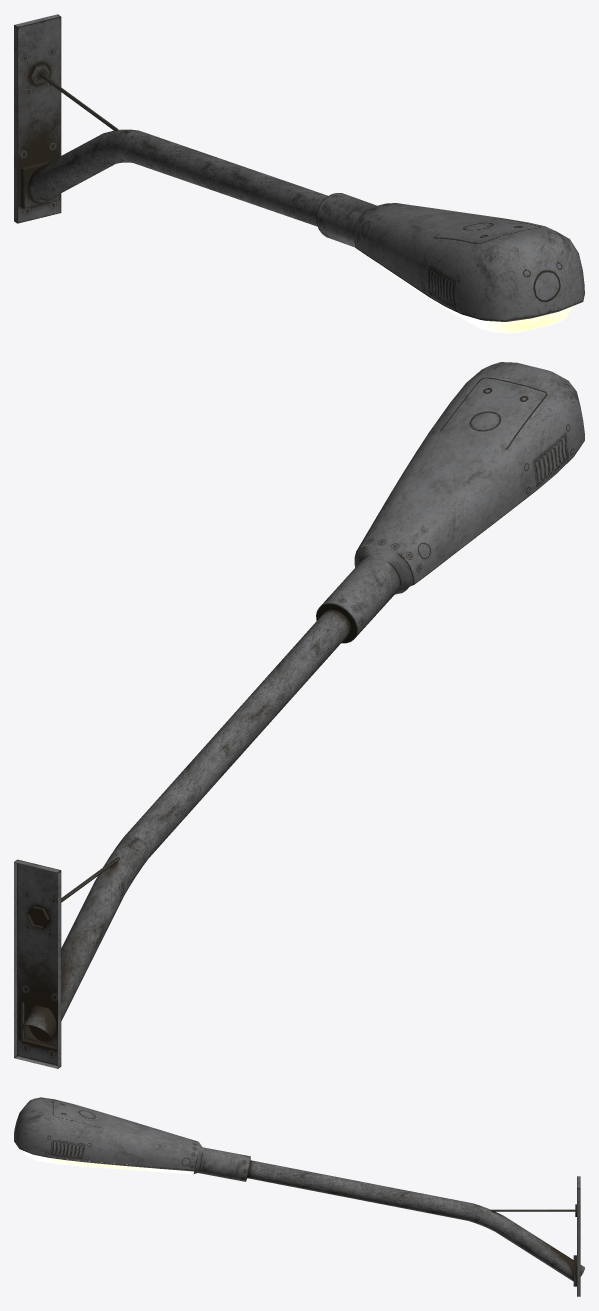
Rendered from Luz1.fbx.
The picture shows the model from 3 angles, top to bottom: view 1: azimuth 30°, elevation 25°; view 2: azimuth 150°, elevation 25°; view 3: azimuth 270°, elevation 25°; orthographic projection. The views are drawn at different scales.
Visible parts, largest first — view 1: Object_2; view 2: Object_2; view 3: Object_2.
Boxes of the visible parts, x1,y1,x2,y2 form: Object_2: [14, 14, 584, 333]; Object_2: [14, 362, 584, 1068]; Object_2: [14, 1097, 584, 1296].
Bounding box in the file's own units: 8045 × 22787 × 63509.
